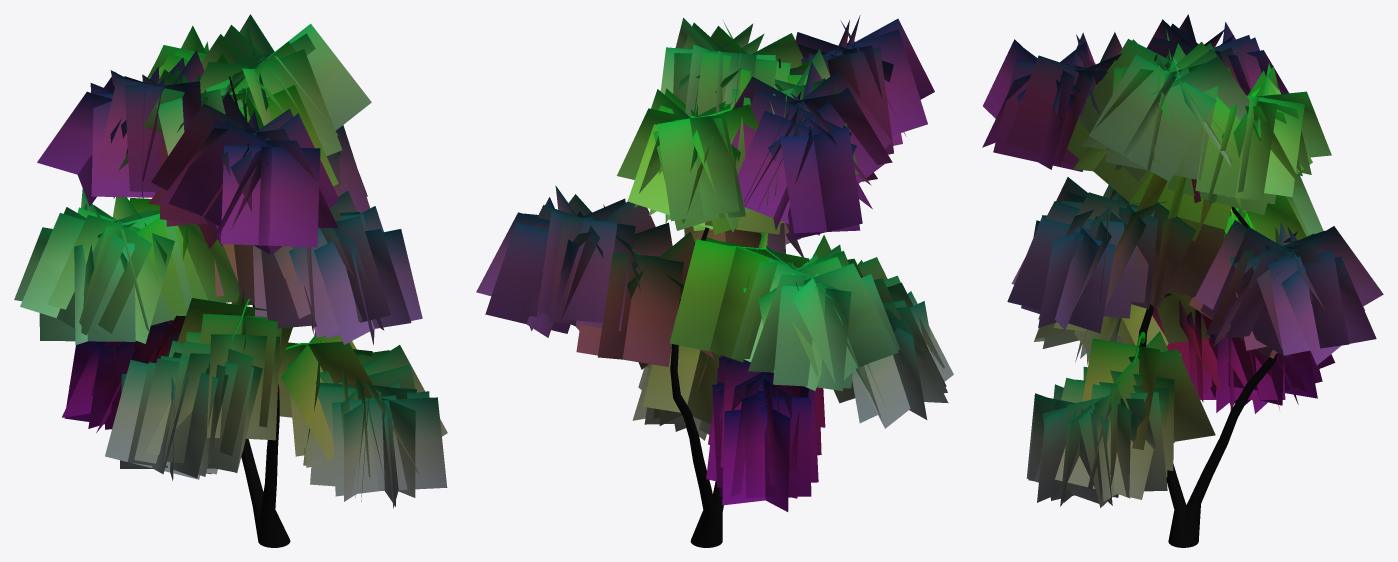
The model's file is URP_P13_Tree_5_LOD_1.fbx.
3 views of the same model, side by side, from view 1: azimuth 30°, elevation 25°; view 2: azimuth 150°, elevation 25°; view 3: azimuth 270°, elevation 25° (orthographic). The views are drawn at different scales.
Visible parts, largest first — view 1: Tree_5_LOD_1; view 2: Tree_5_LOD_1; view 3: Tree_5_LOD_1.
Part boxes in pixels (left/top/right/bottom): Tree_5_LOD_1: left=14, top=14, right=447, bottom=547; Tree_5_LOD_1: left=476, top=15, right=953, bottom=547; Tree_5_LOD_1: left=982, top=14, right=1383, bottom=547.
Bounding box in the file's own units: 444 × 589 × 444.
